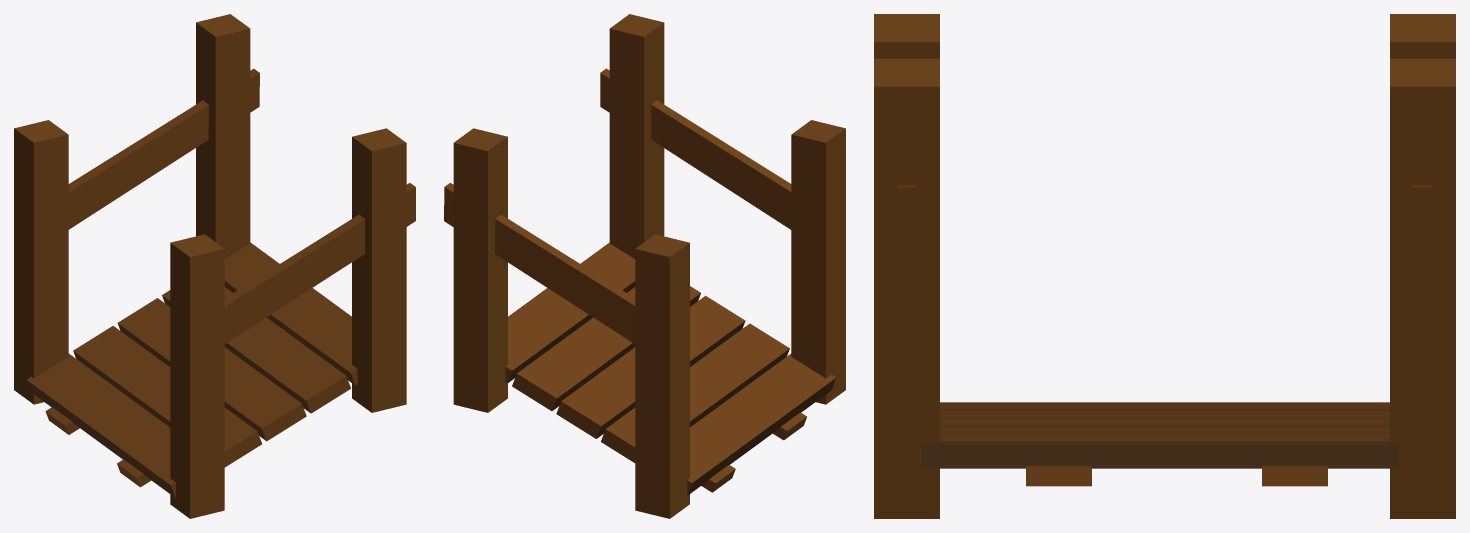
Rendered from Bridge_EndingUV.fbx.
3 renders of one model, left to right at view 1: azimuth 30°, elevation 25°; view 2: azimuth 150°, elevation 25°; view 3: azimuth 270°, elevation 25°, orthographic. The views are drawn at different scales.
Parts seen in each view (by area): view 1: Cube; view 2: Cube; view 3: Cube.
Boxes of the visible parts, <box> form: Cube: <box>14,14,415,518</box>; Cube: <box>444,14,845,518</box>; Cube: <box>874,14,1455,518</box>.
Size of the model in its own units: 174 by 224 by 221.
